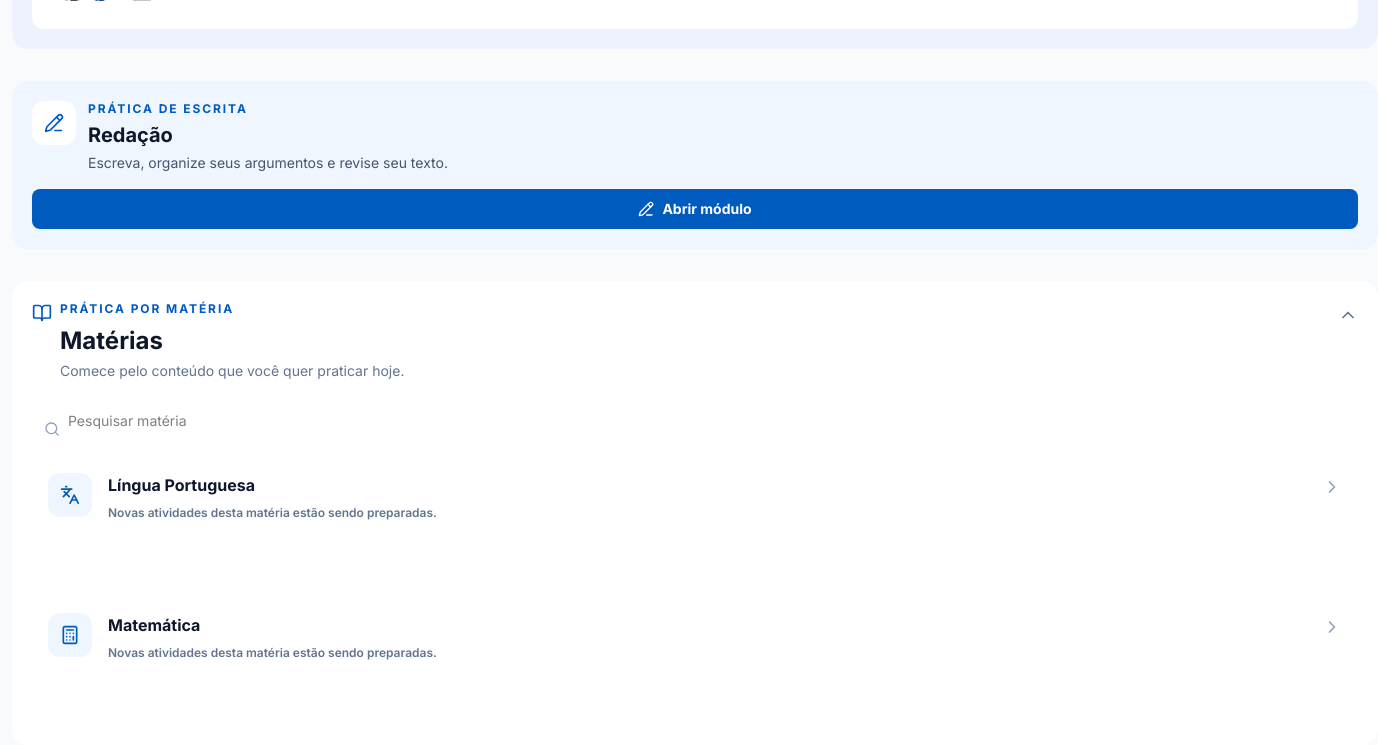
Test: StudyCenterPage › abre a área própria da matéria ao clicar no card
(page scrolled)
Click the link "Matemática" at (695, 661), box [32,597,1358,725]
(page scrolled)
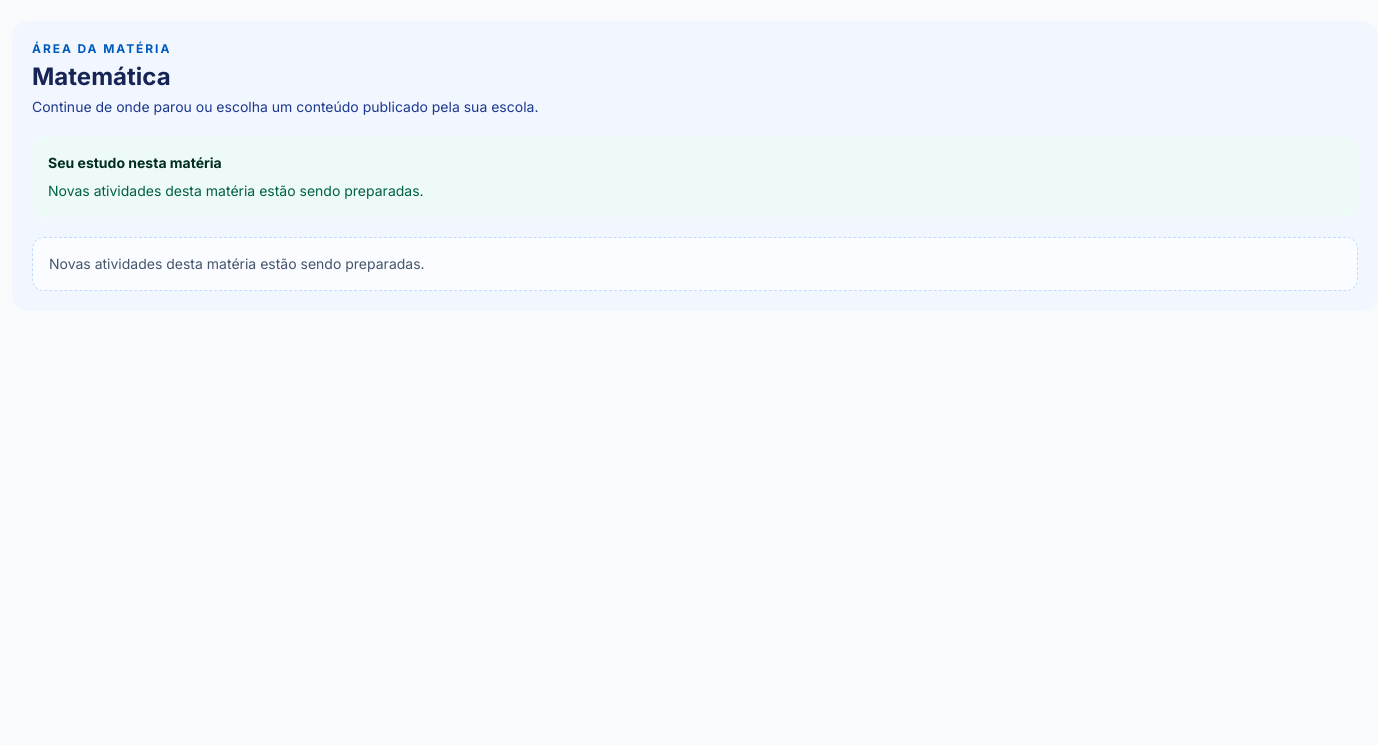
Result: the element named "Estudo de Matemática" is shown at [12,21,1377,311]
